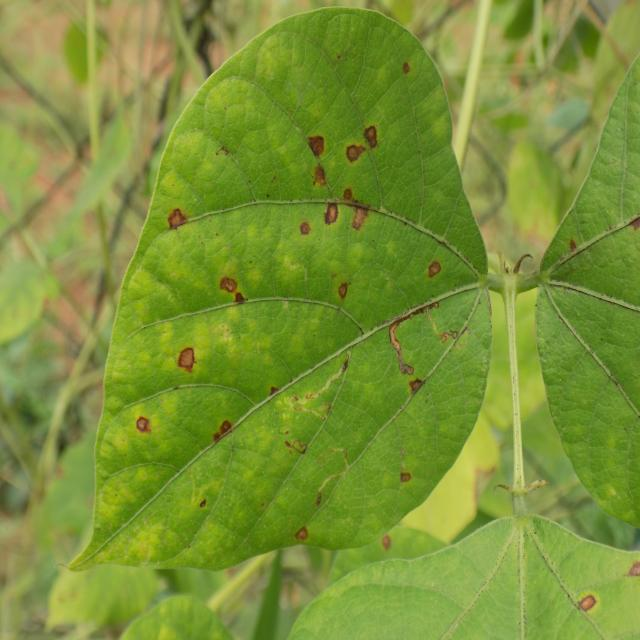Dolicos bean_cercospora leaf spot: (51, 11, 495, 575)
